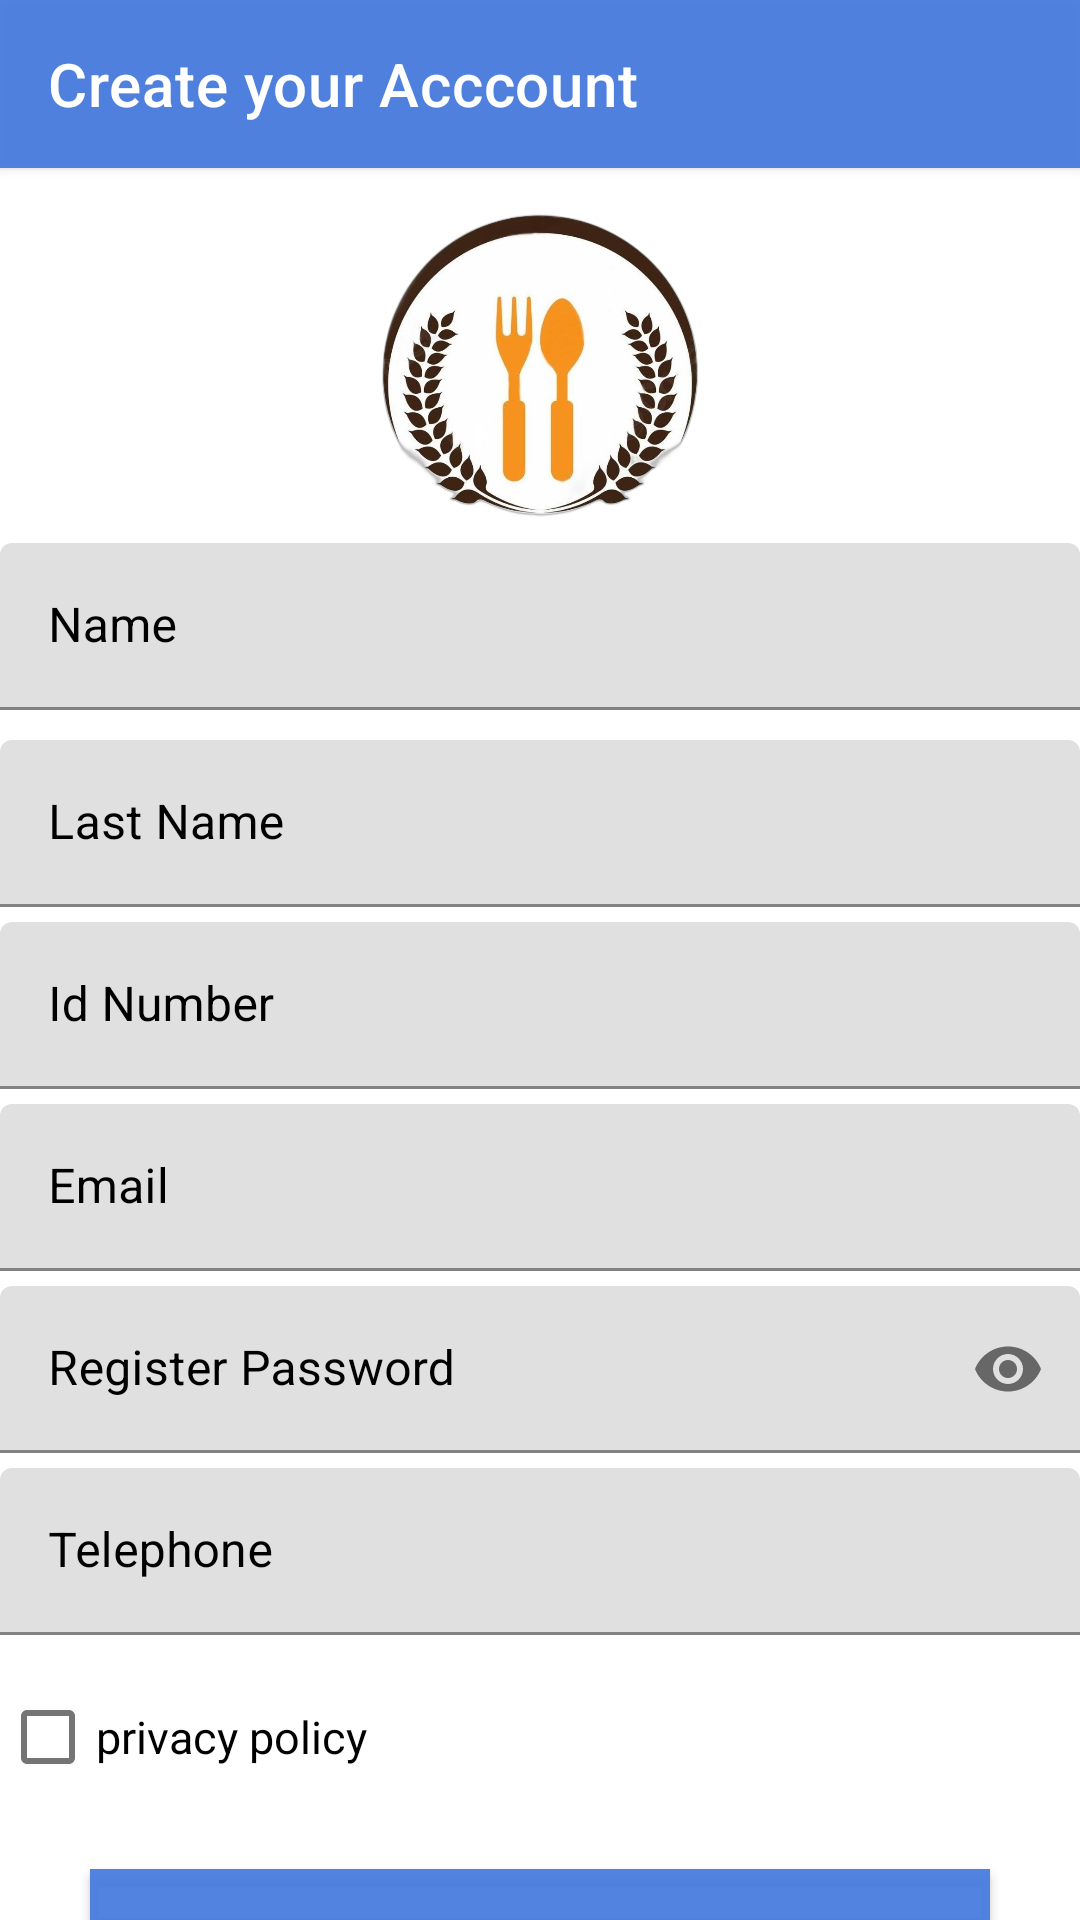

Named icons in this screenshot (1080×1920) and their centers, (x=x, y=y):
restaurante: (x=540, y=365)
